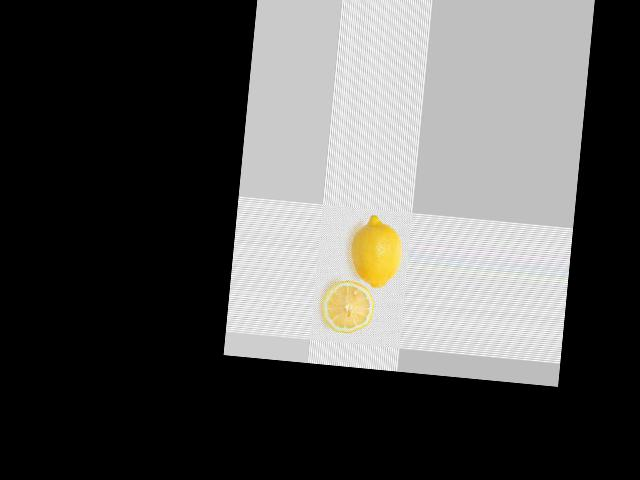lemon: (344, 208, 407, 289)
